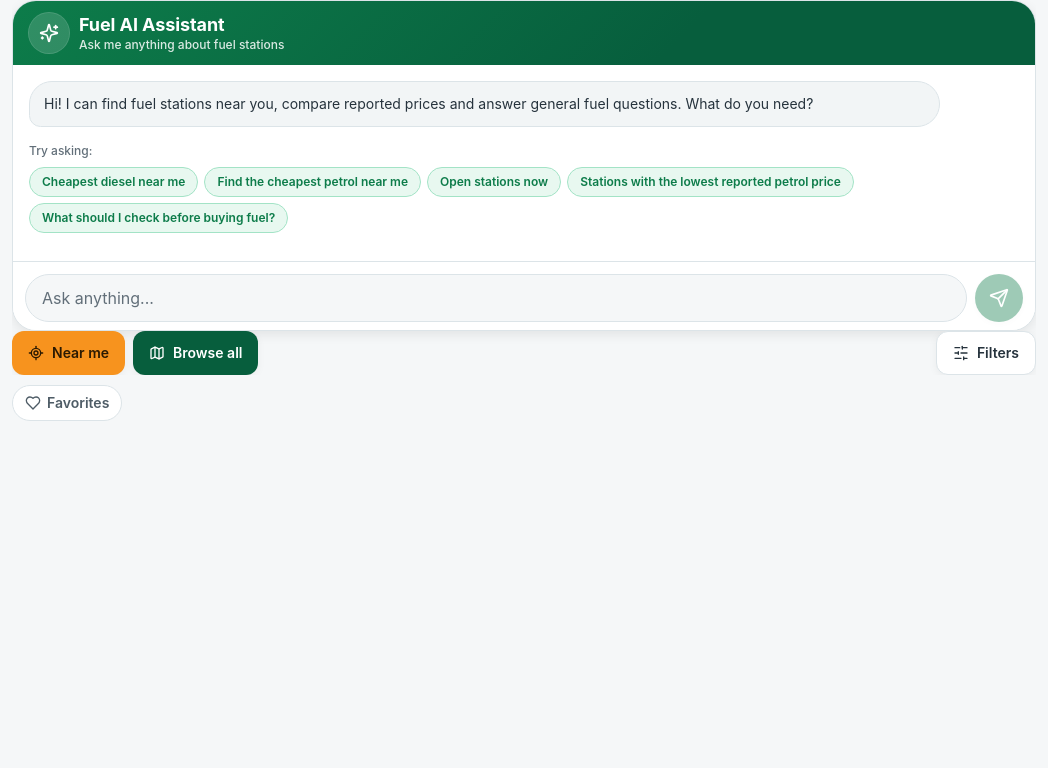
Scenario: rejected coarse fixes (5 km protection) — one lifecycle, one error surface › the 50 km Abuja fix is rejected, nothing is stored, backend never sees it
Type "petrol" into the field named "Ask Fuel AI". click: (496, 298)
box: [25,274,967,322]
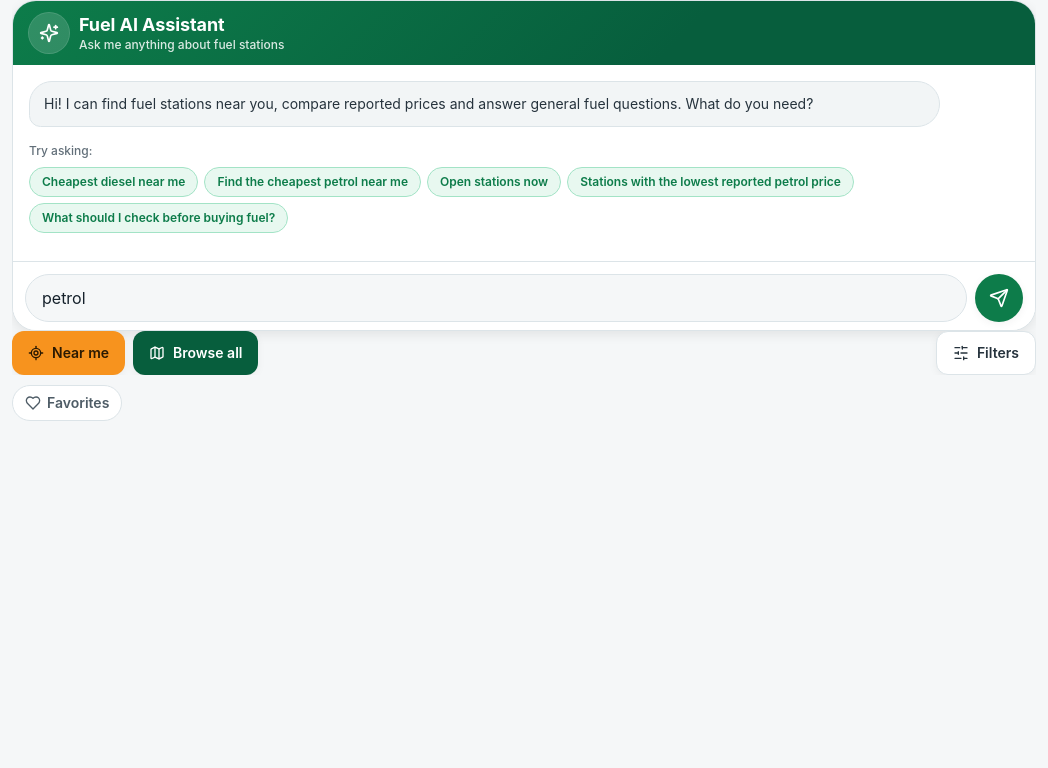
Click the button named "ask fuel ai". click: (999, 298)
box: [975,274,1023,322]
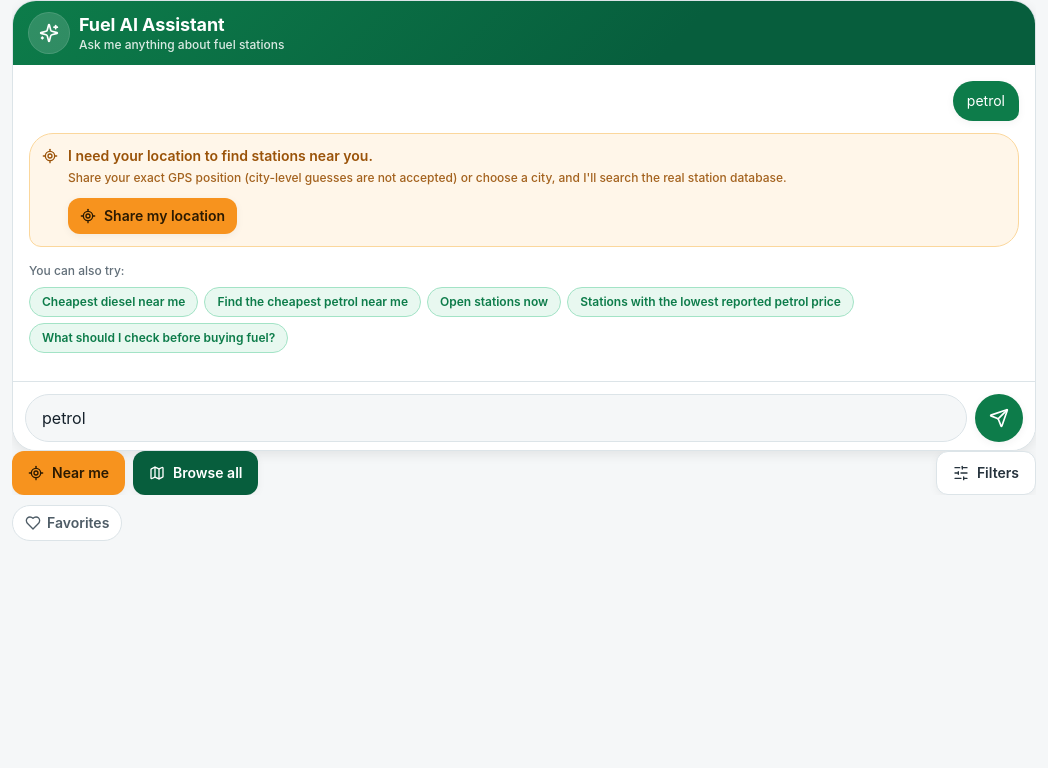
Check: the text "I need your location to find stations near you." is shown, box [68,147,373,164]
Click the button "Share my location". click: (153, 216)
box: [68,198,237,234]
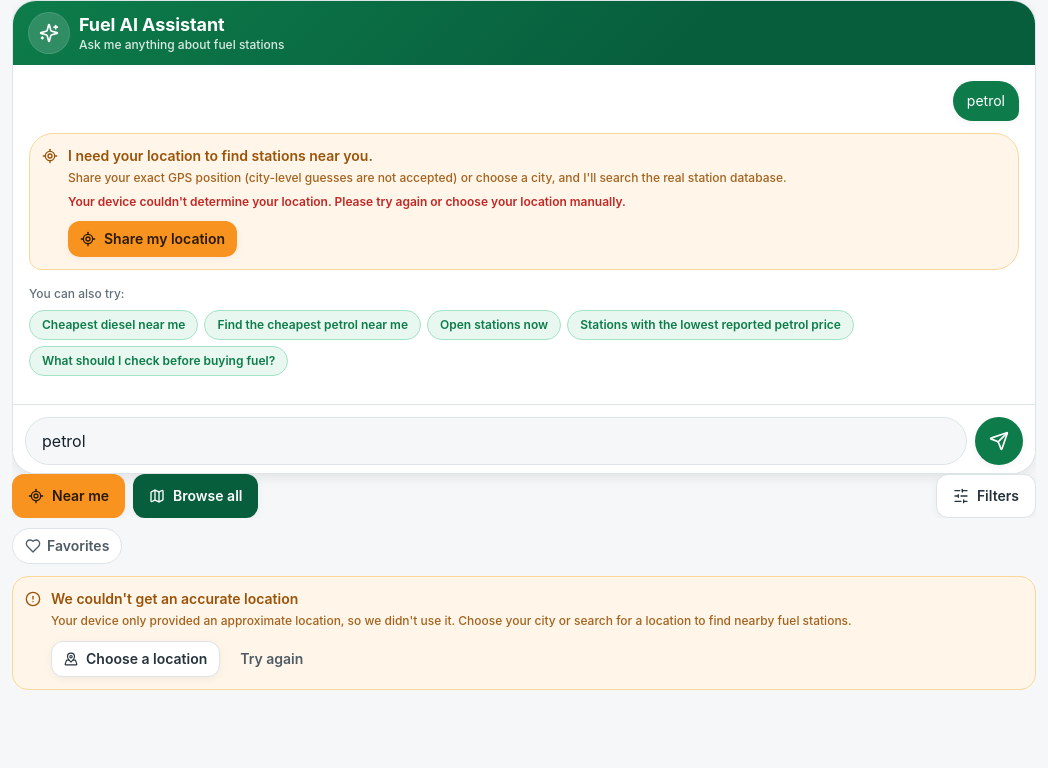
Check: the text "couldn't determine your location" is shown, box [68,194,626,208]
